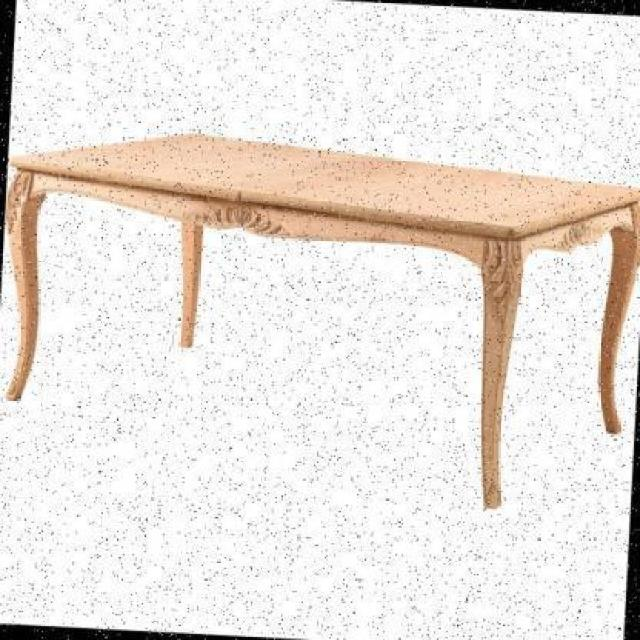tables: (1, 129, 638, 509)
